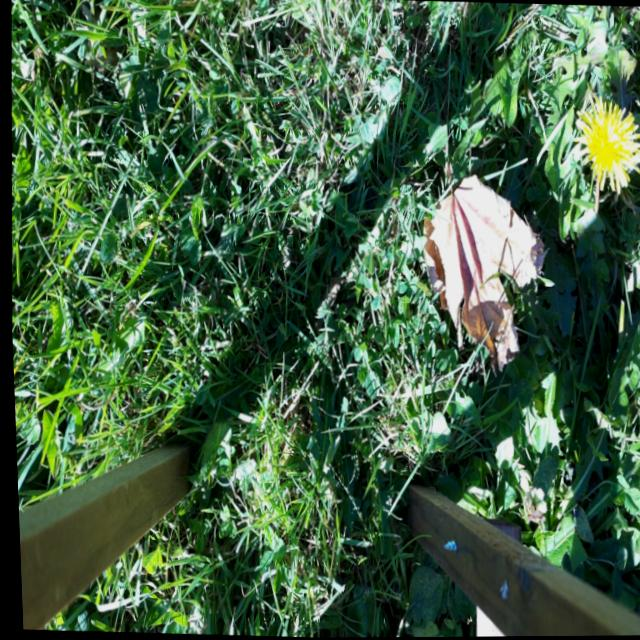base: (583, 201, 603, 233)
